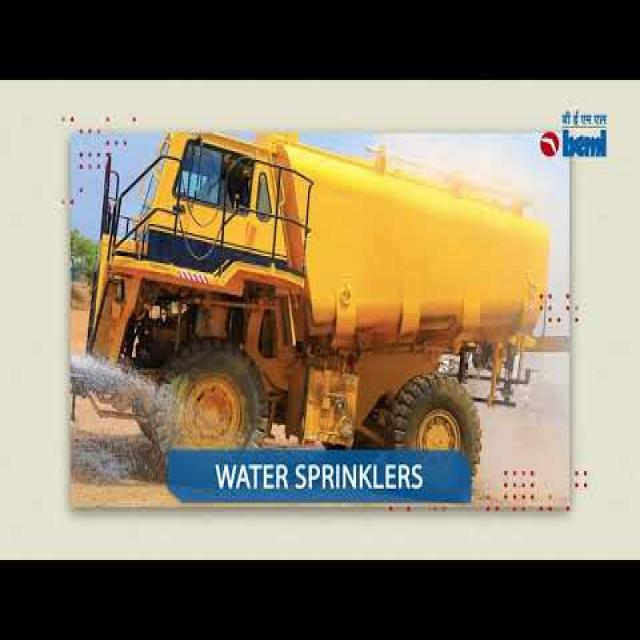dump_truck: (82, 132, 545, 452)
